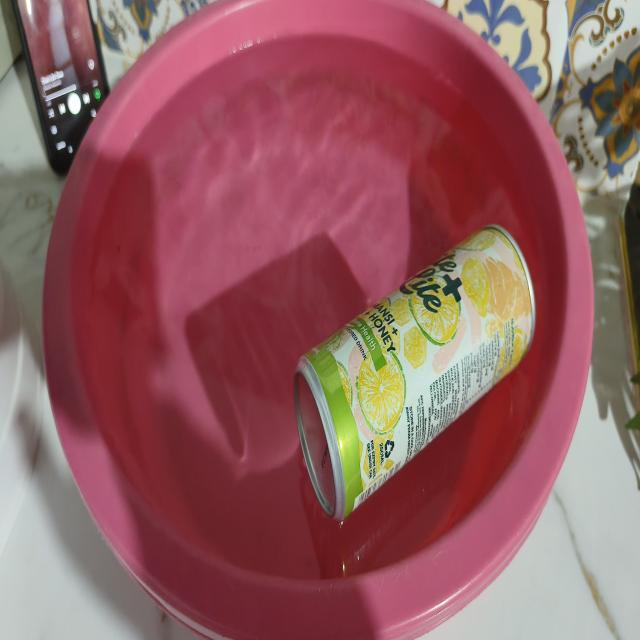Aluminum Can: (295, 225, 536, 520)
